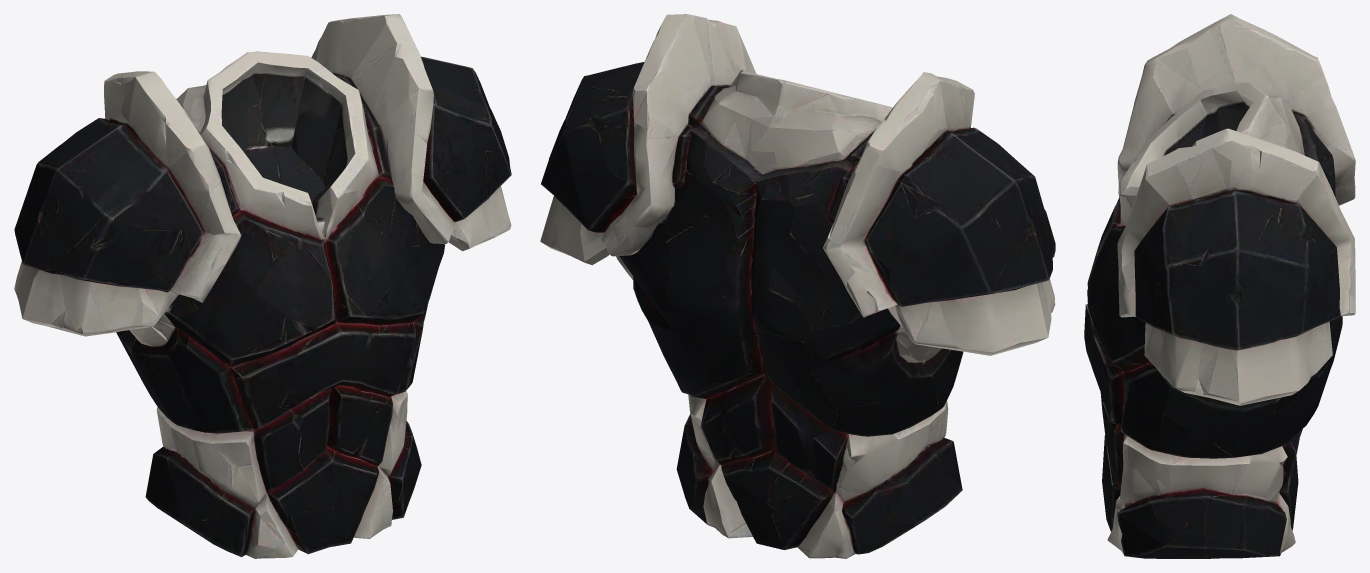
The model's file is husk.glb.
3 views of the same model, side by side, from view 1: azimuth 30°, elevation 25°; view 2: azimuth 150°, elevation 25°; view 3: azimuth 270°, elevation 25° (orthographic). The views are drawn at different scales.
Visible parts, largest first — view 1: mesh_node; view 2: mesh_node; view 3: mesh_node.
Part boxes in pixels (x1=…): mesh_node: x1=14, y1=14, x2=511, y2=558; mesh_node: x1=540, y1=14, x2=1055, y2=558; mesh_node: x1=1084, y1=14, x2=1355, y2=558.
Bounding box in the file's own units: 1.9 × 1.74 × 0.9497.
1 material, 1 textured.
